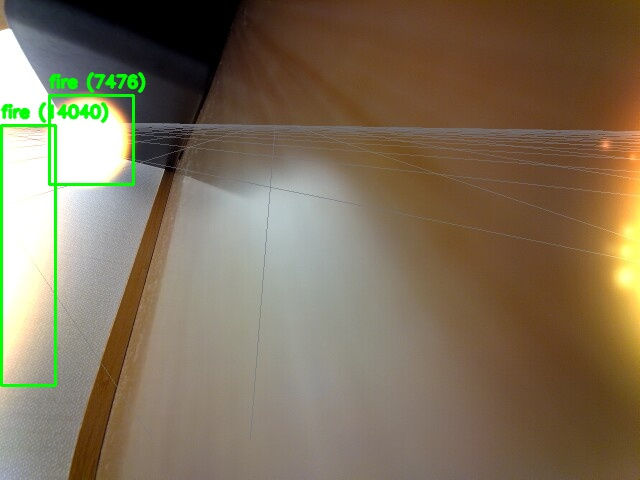fire: (1, 125, 55, 385), (49, 95, 133, 184)
